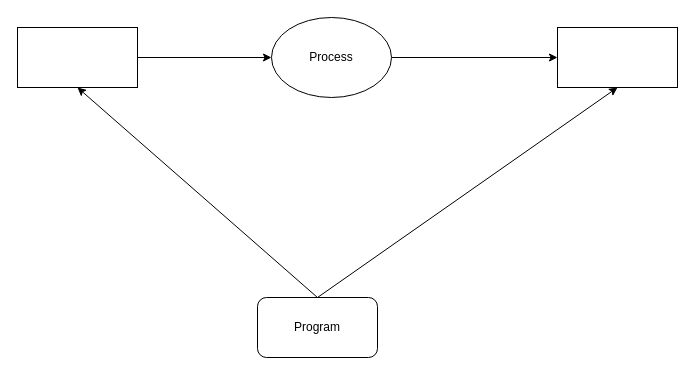
The diagram is 695 pixels wide and 375 high, and some of its shapes have lost their labels. Here are the shapes that lost their labels. From the top down, the centre of each, then its label:
the point at 77,57: Input Data
the point at 617,57: Output
